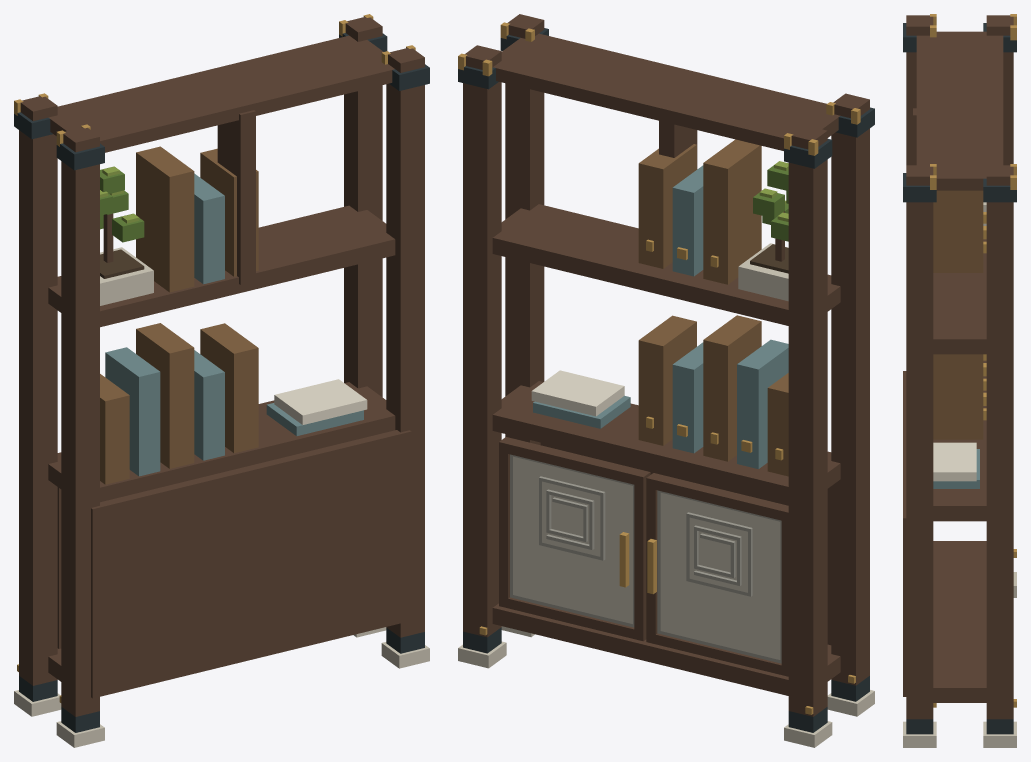
The picture shows the model from 3 angles, left to right: view 1: azimuth 30°, elevation 25°; view 2: azimuth 150°, elevation 25°; view 3: azimuth 270°, elevation 25°; orthographic projection. The views are drawn at different scales.
Visible parts, largest first — view 1: 书架书柜; view 2: 书架书柜; view 3: 书架书柜.
Boxes of the visible parts, x1=… form: 书架书柜: x1=14, y1=14, x2=429, y2=747; 书架书柜: x1=458, y1=14, x2=874, y2=747; 书架书柜: x1=903, y1=14, x2=1016, y2=747.
Bounding box in the file's own units: 1.16 × 1.88 × 0.34.
11 materials, 11 textured.
